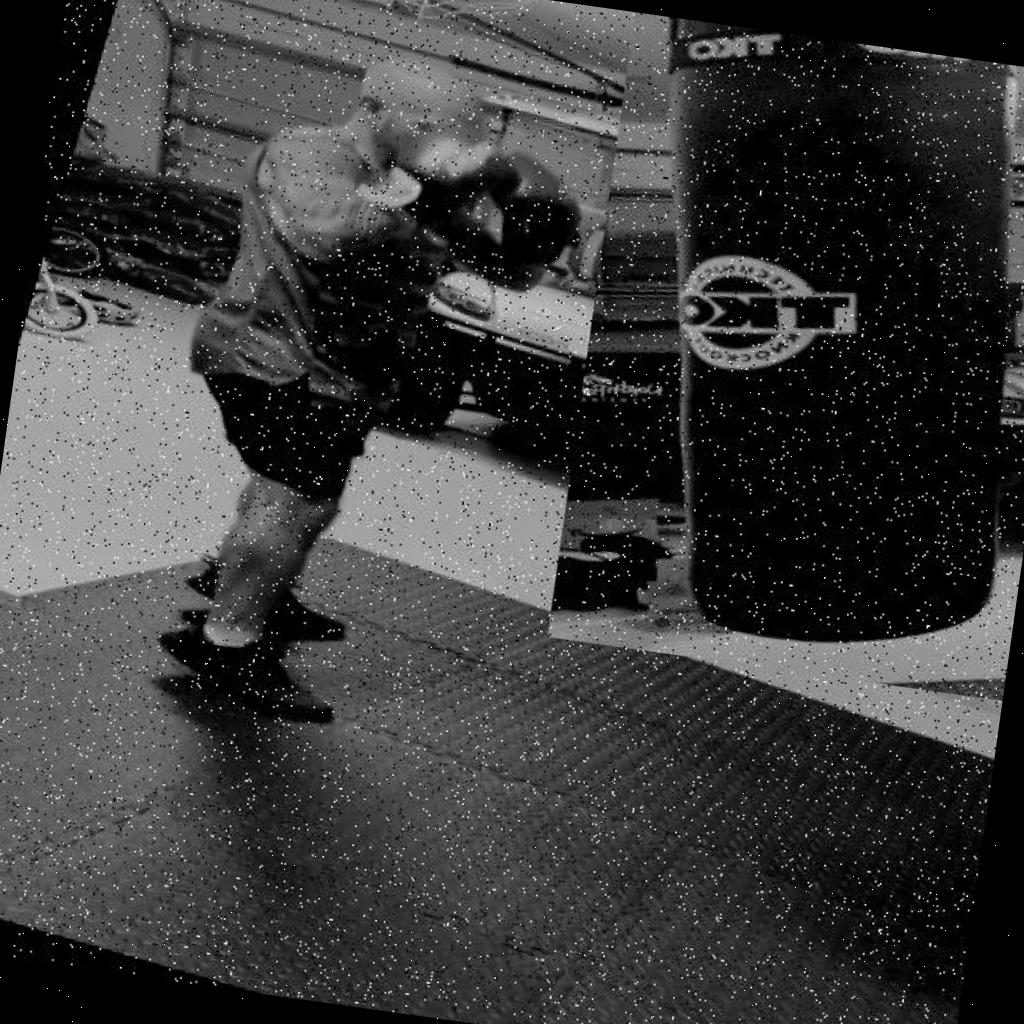bag: (547, 12, 1024, 699)
no punch: (242, 14, 628, 342)
